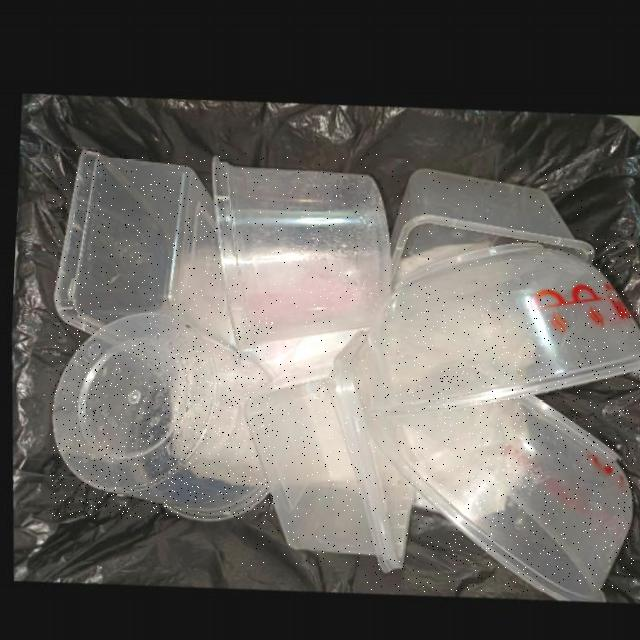plastic: (366, 386, 634, 591), (357, 233, 640, 409), (50, 310, 273, 519), (241, 322, 413, 566), (51, 150, 233, 344), (207, 153, 388, 348), (387, 161, 590, 282)
